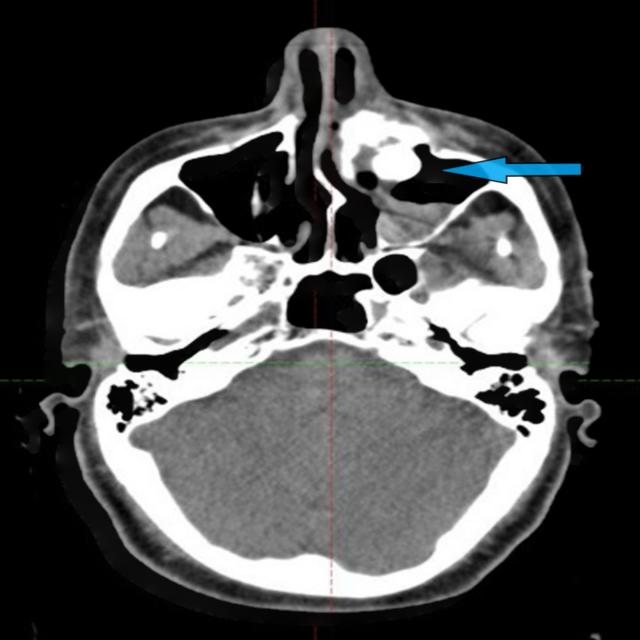Tumor: (370, 145, 426, 181)
